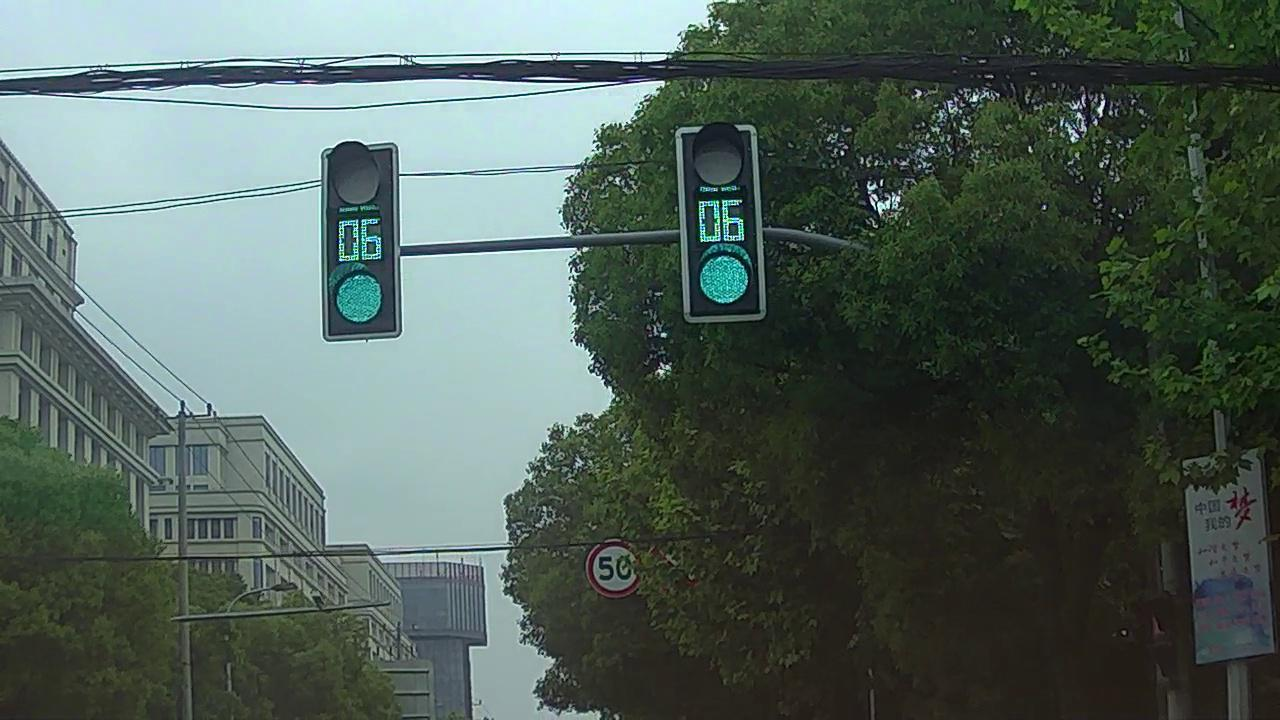traffic_light: (326, 150, 400, 339), (684, 132, 757, 311)
